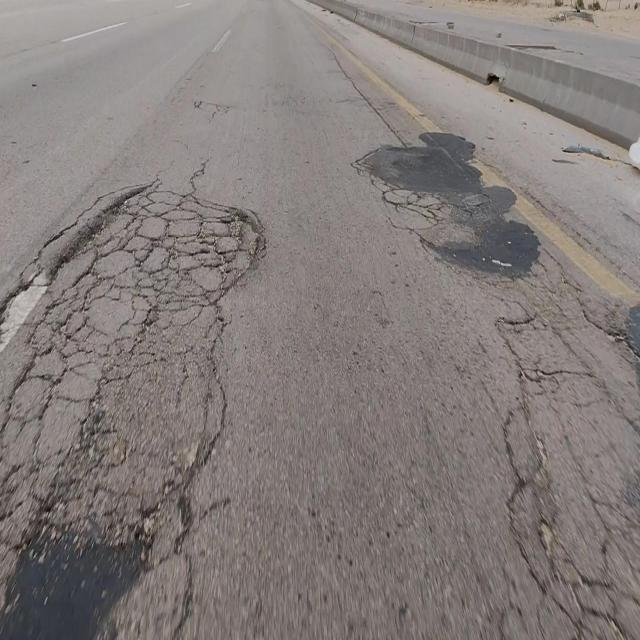Potholes: (51, 183, 266, 317), (0, 498, 155, 640)
